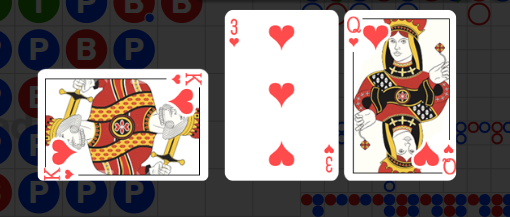3H: (322, 142, 335, 173)
KH: (42, 167, 76, 180)
